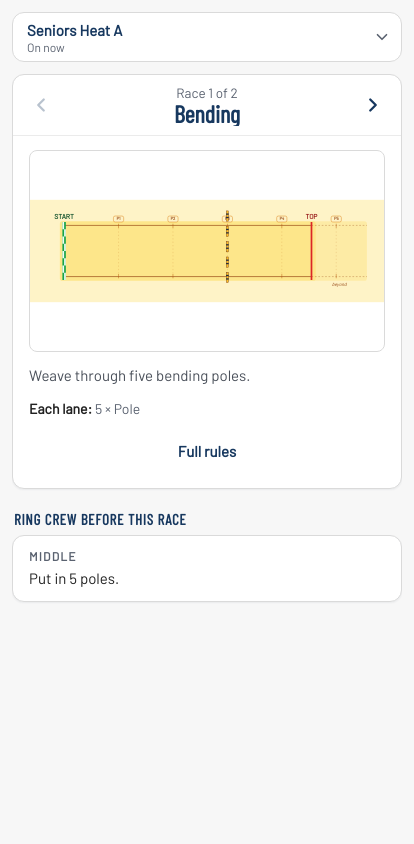
Test: shows one race with arrows, one arena-and-heat row, one equipment line and Full rules, with no footer or race chips
The width and height of the screenshot is (414, 844).
Check: the text "Weave through five bending poles." is shown, box [29,366,250,384]
Check: the text "Race 1 of 2" is shown, box [176,84,238,101]
Click the button named "Next race": click(373, 105) [351,83,395,127]
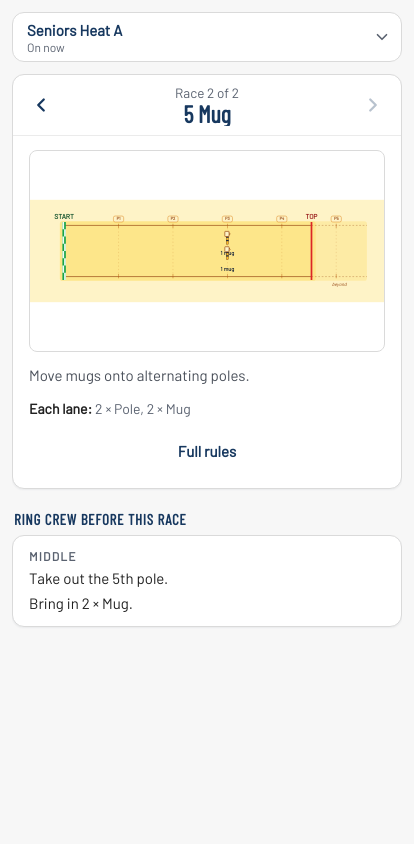
Check: the heading "5 Mug" is shown, box [183,101,231,126]
Check: the text "Race 2 of 2" is shown, box [175,84,239,101]
Check: the text "Move mugs onto alternating poles." is shown, box [29,366,250,384]
